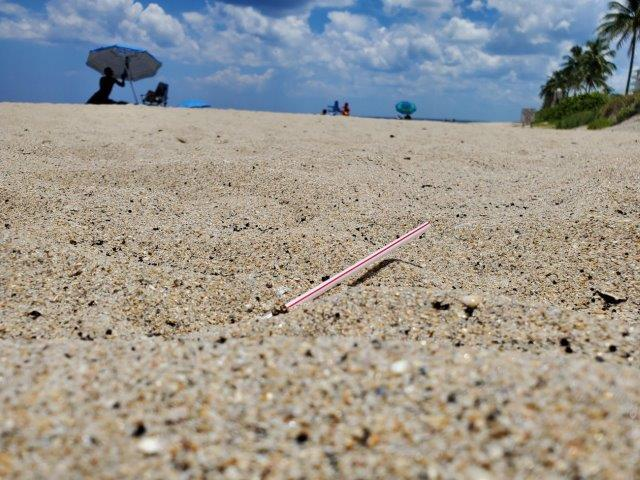sedotan: (285, 222, 429, 305)
